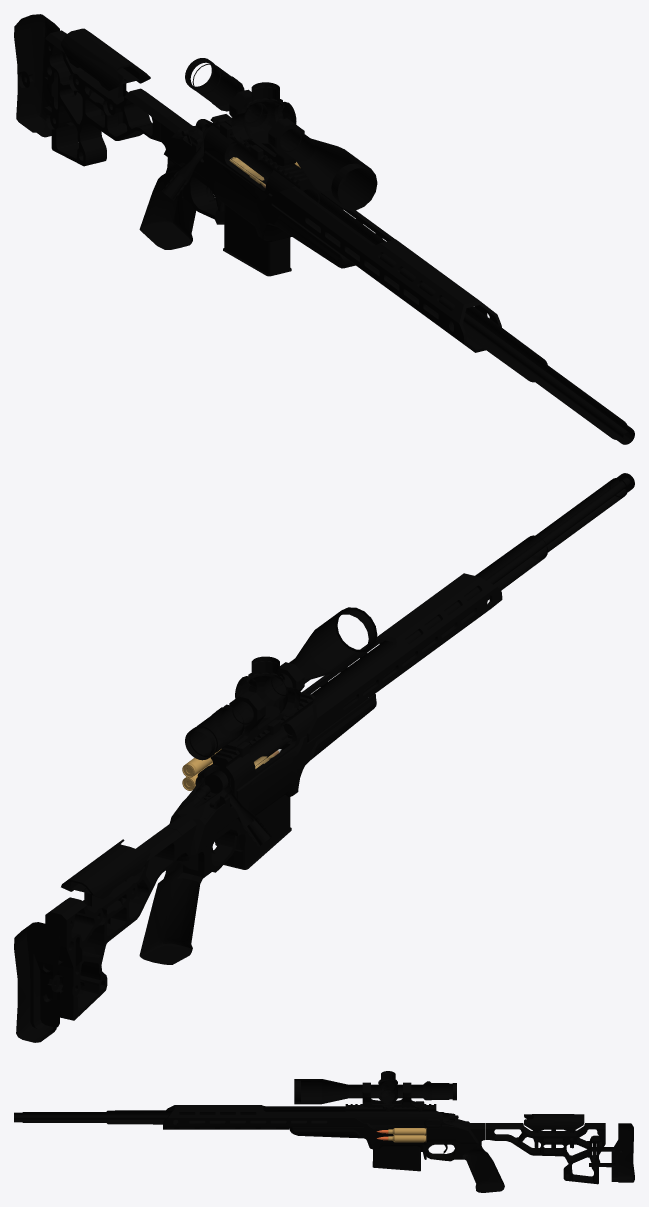
3 renders of one model, top to bottom at view 1: azimuth 30°, elevation 25°; view 2: azimuth 150°, elevation 25°; view 3: azimuth 270°, elevation 25°, orthographic. The views are drawn at different scales.
Visible parts, largest first — view 1: Mesh_0012.rip, Mesh_0003.rip, Mesh_0002.rip, Mesh_0021.rip, Mesh_0018.rip, Mesh_0006.rip; view 2: Mesh_0012.rip, Mesh_0003.rip, Mesh_0002.rip, Mesh_0021.rip, Mesh_0006.rip, Mesh_0018.rip; view 3: Mesh_0012.rip, Mesh_0003.rip, Mesh_0002.rip, Mesh_0021.rip, Mesh_0018.rip, Mesh_0006.rip, Cylinder.001, Cylinder.002.
Boxes of the visible parts, x1=… form: Mesh_0012.rip: x1=14, y1=14, x2=501, y2=352; Mesh_0003.rip: x1=185, y1=58, x2=377, y2=210; Mesh_0002.rip: x1=302, y1=189, x2=634, y2=444; Mesh_0021.rip: x1=161, y1=114, x2=320, y2=203; Mesh_0018.rip: x1=223, y1=162, x2=291, y2=276; Mesh_0006.rip: x1=220, y1=89, x2=304, y2=166; Mesh_0012.rip: x1=14, y1=573, x2=502, y2=1042; Mesh_0003.rip: x1=185, y1=607, x2=377, y2=760; Mesh_0002.rip: x1=311, y1=473, x2=634, y2=707; Mesh_0021.rip: x1=176, y1=692, x2=315, y2=854; Mesh_0006.rip: x1=222, y1=662, x2=304, y2=757; Mesh_0018.rip: x1=224, y1=763, x2=291, y2=869; Mesh_0012.rip: x1=163, y1=1105, x2=634, y2=1192; Mesh_0003.rip: x1=294, y1=1071, x2=456, y2=1104; Mesh_0002.rip: x1=14, y1=1109, x2=345, y2=1124; Mesh_0021.rip: x1=345, y1=1104, x2=465, y2=1153; Mesh_0018.rip: x1=372, y1=1146, x2=420, y2=1171; Mesh_0006.rip: x1=362, y1=1082, x2=424, y2=1111; Cylinder.001: x1=377, y1=1135, x2=426, y2=1142; Cylinder.002: x1=376, y1=1128, x2=426, y2=1135.
Bounding box in the file's own units: 0.9194 × 1.97 × 9.52.
Materials: 9 (1 with a texture image).
